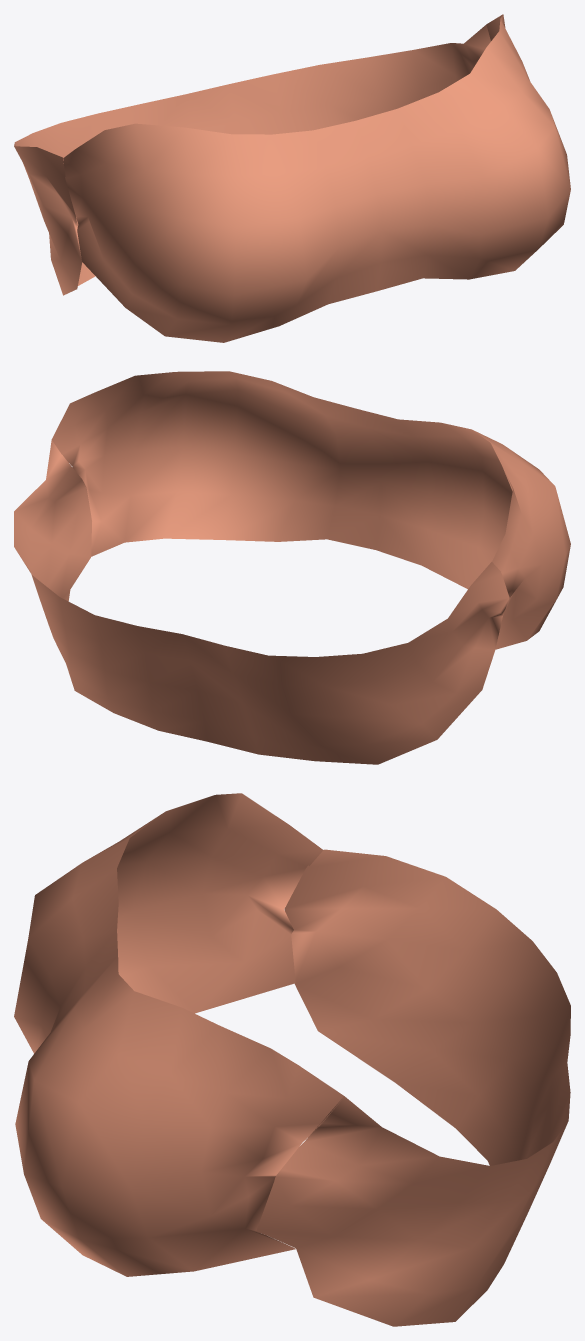
Rendered from Bra_U.glb.
The picture shows the model from 3 angles, top to bottom: view 1: azimuth 30°, elevation 25°; view 2: azimuth 150°, elevation 25°; view 3: azimuth 270°, elevation 25°; orthographic projection. The views are drawn at different scales.
Visible parts, largest first — view 1: Plane.002; view 2: Plane.002; view 3: Plane.002.
Boxes of the visible parts, left/top/right/bottom form: Plane.002: left=14, top=14, right=570, bottom=342; Plane.002: left=14, top=371, right=570, bottom=764; Plane.002: left=14, top=793, right=570, bottom=1326.
Bounding box in the file's own units: 0.2838 × 0.1499 × 0.2372.
